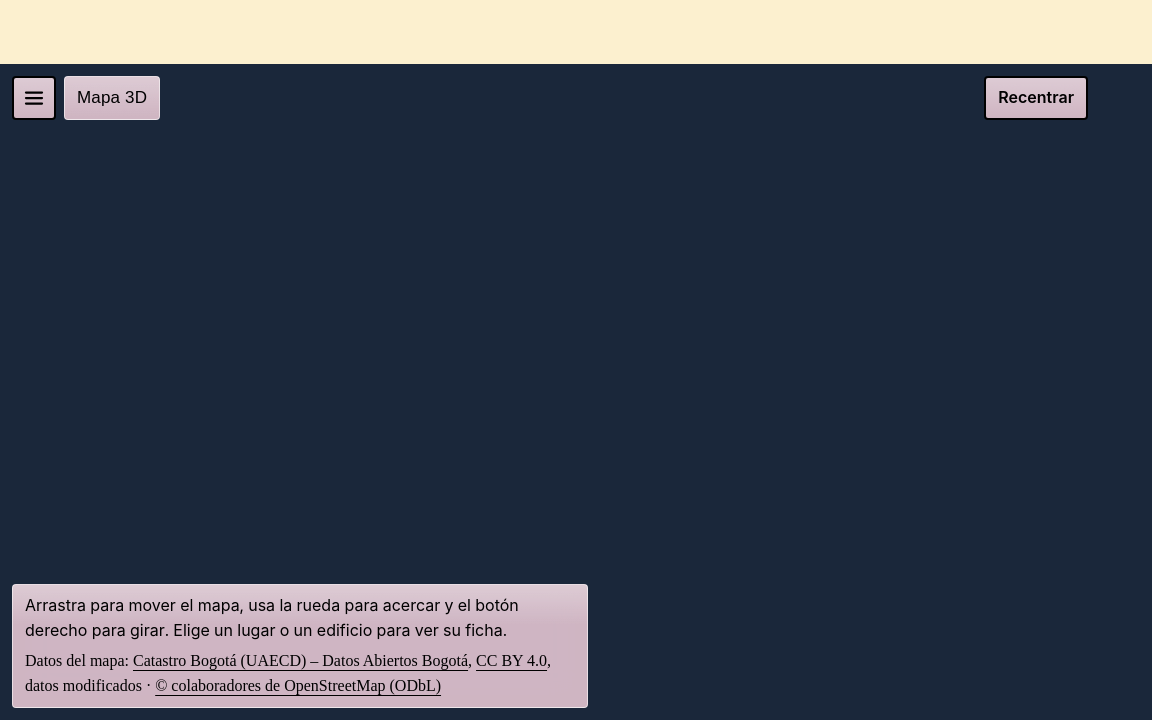
Scenario: escenario del mapa a pantalla completa › el botón de tres barras abre y cierra el panel, oculto al principio (aria-expanded, aria-controls)
Later steps or results of the test are not shown.
What coordinates should you click on to do the following:
click the button named "Panel de información"
I would click on:
 (34, 98)
Its box is x1=12 y1=76 x2=56 y2=120.
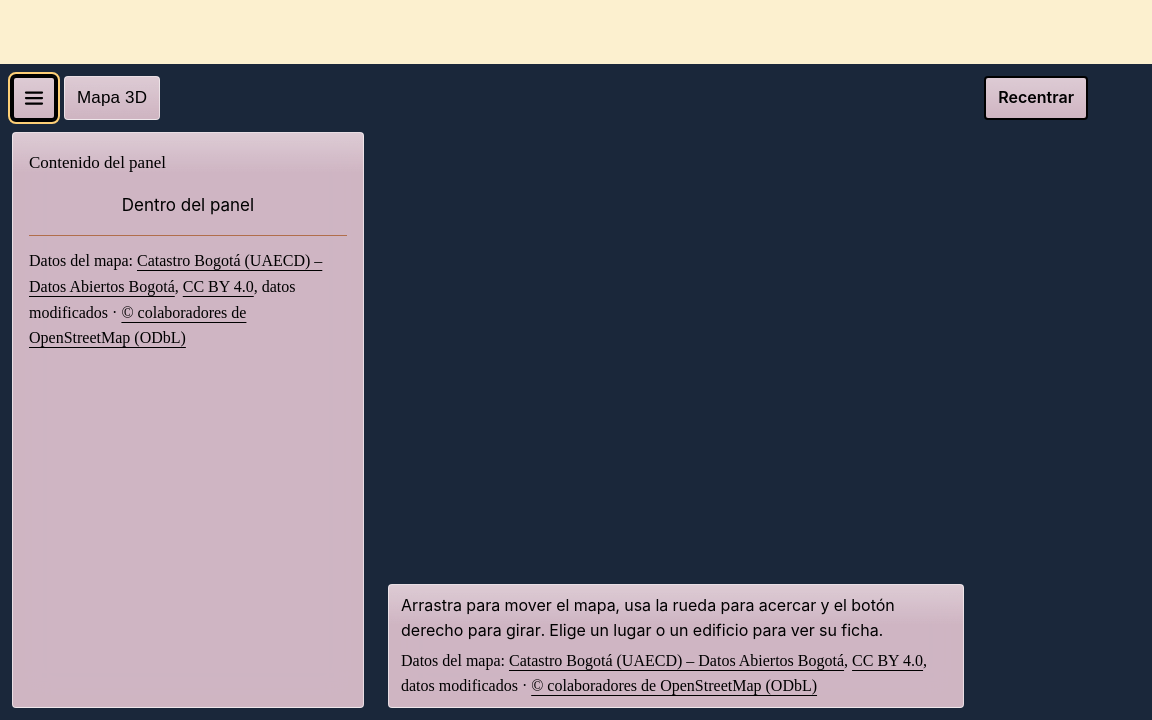
Now the element named "Información del mapa" shows "Contenido del panel", box x1=29 y1=153 x2=166 y2=172
